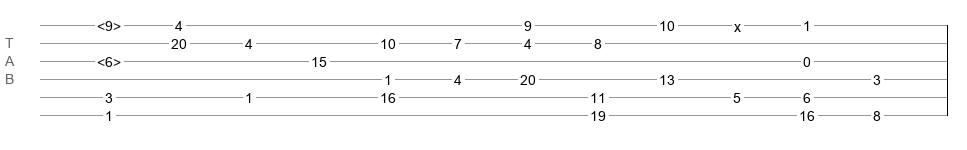0: (803, 54, 811, 64)
1: (105, 108, 113, 118), (245, 90, 253, 100), (384, 72, 392, 82), (803, 18, 811, 28)
10: (380, 36, 396, 46), (659, 18, 675, 28)
11: (590, 90, 606, 100)
13: (659, 72, 675, 82)
15: (311, 54, 327, 64)
16: (380, 90, 396, 100), (799, 108, 815, 118)
19: (590, 108, 606, 118)
20: (171, 36, 187, 46), (520, 72, 536, 82)
3: (105, 90, 113, 100), (873, 72, 881, 82)
4: (175, 18, 183, 28), (245, 36, 253, 46), (454, 72, 462, 82), (524, 36, 532, 46)
5: (733, 90, 741, 100)
6: (803, 90, 811, 100)
7: (454, 36, 462, 46)
8: (594, 36, 602, 46), (873, 108, 881, 118)
9: (524, 18, 532, 28)
harmonic: (97, 18, 121, 28), (97, 54, 121, 64)
x: (734, 19, 741, 27)
